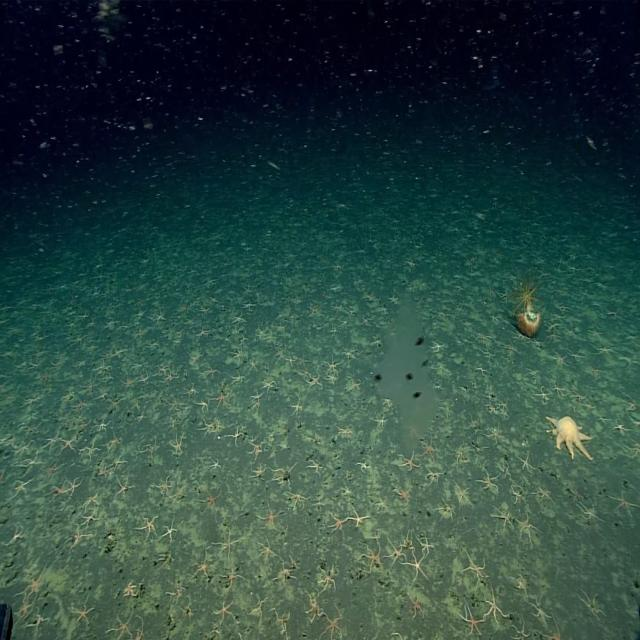brittle-stars: (214, 528, 240, 560), (268, 606, 292, 640), (459, 603, 483, 636), (484, 589, 506, 624), (611, 490, 638, 518), (70, 596, 94, 627), (108, 612, 134, 640), (21, 566, 47, 594), (580, 590, 606, 618), (463, 553, 486, 583), (360, 543, 382, 574), (322, 611, 344, 640), (13, 594, 35, 623), (407, 554, 428, 582), (212, 598, 235, 623), (136, 514, 158, 540), (260, 506, 282, 532), (518, 514, 538, 542), (248, 593, 268, 621), (67, 526, 90, 549), (276, 560, 296, 586), (580, 501, 602, 524), (200, 488, 222, 511), (347, 507, 370, 529), (530, 596, 549, 622), (195, 551, 212, 580), (30, 607, 48, 634), (306, 590, 323, 618), (544, 622, 570, 640), (221, 565, 242, 587), (19, 452, 41, 473), (493, 508, 513, 531), (318, 566, 336, 591), (479, 470, 500, 491), (272, 468, 294, 488), (11, 478, 33, 498), (114, 476, 133, 499), (455, 482, 472, 507), (386, 542, 404, 565), (421, 439, 439, 462), (394, 481, 411, 505), (512, 620, 532, 640), (286, 491, 307, 510), (518, 451, 536, 473), (330, 512, 348, 534), (162, 520, 179, 543), (409, 594, 425, 618), (399, 452, 418, 472), (438, 499, 456, 520), (142, 438, 159, 460), (260, 537, 276, 560), (157, 477, 174, 498), (80, 439, 98, 458), (16, 439, 34, 458), (65, 478, 82, 498), (212, 391, 230, 409), (82, 511, 100, 529), (486, 423, 503, 442), (84, 492, 101, 511), (124, 580, 140, 600), (106, 434, 122, 454), (170, 481, 186, 501), (418, 534, 433, 555), (426, 465, 443, 483), (552, 380, 568, 399), (229, 425, 245, 444), (46, 432, 62, 451), (168, 394, 184, 412), (248, 440, 263, 459), (338, 424, 354, 441), (373, 415, 389, 432), (203, 362, 220, 378), (552, 350, 568, 367), (199, 368, 216, 384), (502, 340, 518, 357), (347, 376, 362, 394), (594, 343, 612, 358), (84, 378, 99, 396), (290, 394, 302, 416), (171, 436, 184, 456), (455, 444, 468, 464), (232, 370, 248, 386), (307, 460, 322, 477), (250, 463, 265, 480), (325, 356, 340, 373), (567, 348, 585, 362), (512, 486, 526, 504), (534, 487, 550, 502), (62, 436, 77, 452), (435, 360, 450, 376), (123, 374, 137, 391), (362, 455, 376, 472), (343, 347, 358, 362), (497, 462, 511, 478), (96, 416, 110, 432), (111, 455, 125, 471), (232, 347, 246, 363), (201, 418, 215, 434), (570, 390, 587, 403), (627, 442, 640, 459), (308, 374, 322, 389), (263, 379, 278, 393), (323, 372, 338, 386), (356, 457, 370, 472), (164, 368, 178, 383), (475, 362, 490, 376), (197, 396, 210, 412), (569, 487, 582, 503), (112, 344, 125, 360), (376, 495, 388, 512), (536, 386, 549, 401), (99, 462, 111, 478), (478, 333, 494, 345), (256, 323, 267, 340), (209, 458, 222, 472), (198, 328, 211, 342), (155, 310, 168, 324), (390, 630, 408, 640), (249, 356, 260, 372), (243, 300, 256, 313), (234, 312, 246, 326), (360, 314, 372, 328), (486, 403, 498, 417), (299, 354, 310, 367), (388, 292, 399, 304), (334, 303, 344, 314)
